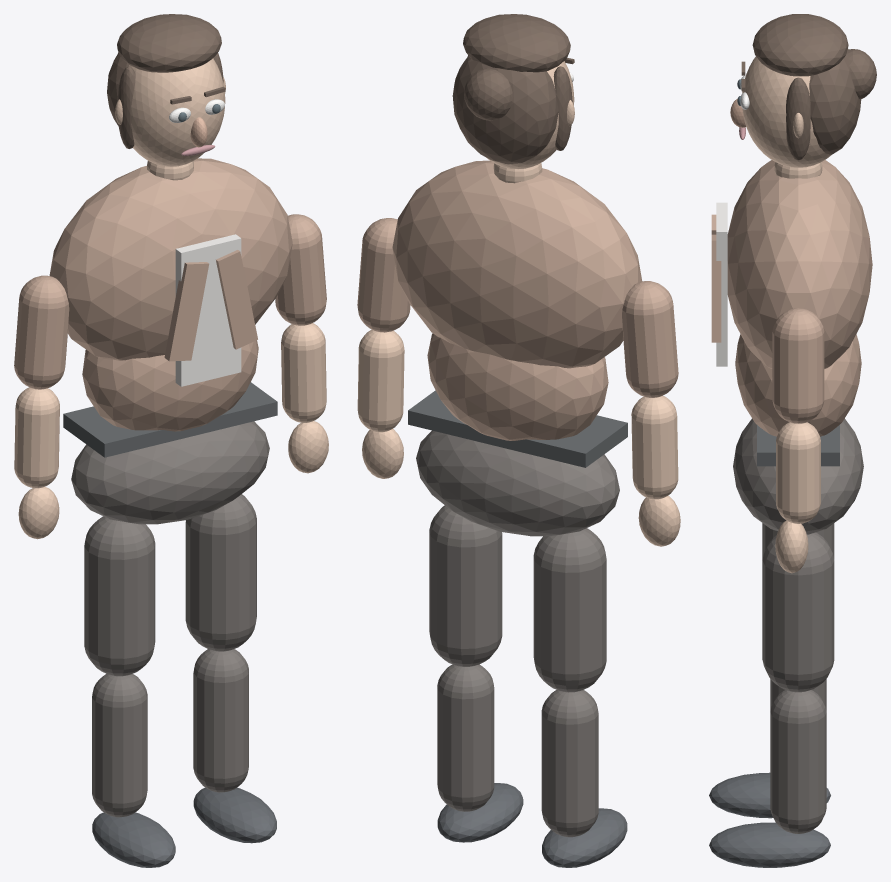
File: guest_female.glb
The picture shows the model from 3 angles, left to right: view 1: azimuth 30°, elevation 25°; view 2: azimuth 150°, elevation 25°; view 3: azimuth 270°, elevation 25°; orthographic projection. The views are drawn at different scales.
Parts seen in each view (by area): view 1: Chest, Hips, LeftUpLeg, RightUpLeg, Spine, RightLeg, LeftLeg, Head, ShirtPanel, LeftArm, HairTop, Belt (+12 smaller); view 2: Chest, Hips, Spine, LeftUpLeg, RightUpLeg, LeftLeg, RightLeg, HairBack, LeftArm, HairTop, Belt, LeftForeArm (+10 smaller); view 3: Chest, RightUpLeg, RightLeg, Hips, RightArm, Spine, HairTop, Head, RightForeArm, RightFoot, HairBack, LeftFoot (+9 smaller).
Boxes of the visible parts, x1=… form: Chest: x1=49, y1=158, x2=292, y2=360; Hips: x1=71, y1=421, x2=269, y2=524; LeftUpLeg: x1=84, y1=516, x2=155, y2=676; RightUpLeg: x1=185, y1=494, x2=256, y2=651; Spine: x1=82, y1=340, x2=258, y2=431; RightLeg: x1=193, y1=649, x2=248, y2=792; LeftLeg: x1=92, y1=674, x2=147, y2=817; Head: x1=128, y1=58, x2=225, y2=166; ShirtPanel: x1=175, y1=234, x2=241, y2=386; LeftArm: x1=14, y1=275, x2=69, y2=389; HairTop: x1=117, y1=14, x2=221, y2=72; Belt: x1=63, y1=382, x2=277, y2=457; Chest: x1=392, y1=160, x2=641, y2=368; Hips: x1=416, y1=430, x2=619, y2=536; Spine: x1=427, y1=333, x2=608, y2=440; LeftUpLeg: x1=533, y1=528, x2=606, y2=692; RightUpLeg: x1=429, y1=505, x2=502, y2=666; LeftLeg: x1=541, y1=690, x2=598, y2=837; RightLeg: x1=437, y1=664, x2=494, y2=811; HairBack: x1=452, y1=56, x2=558, y2=164; LeftArm: x1=622, y1=281, x2=678, y2=397; HairTop: x1=463, y1=14, x2=570, y2=72; Belt: x1=408, y1=390, x2=627, y2=467; LeftForeArm: x1=631, y1=395, x2=678, y2=499; Chest: x1=727, y1=160, x2=872, y2=368; RightUpLeg: x1=762, y1=532, x2=834, y2=692; RightLeg: x1=770, y1=690, x2=826, y2=833; Hips: x1=733, y1=418, x2=863, y2=534; RightArm: x1=772, y1=308, x2=824, y2=423; Spine: x1=735, y1=334, x2=861, y2=436; HairTop: x1=752, y1=14, x2=848, y2=76; Head: x1=742, y1=56, x2=831, y2=167; RightForeArm: x1=776, y1=422, x2=820, y2=523; RightFoot: x1=709, y1=822, x2=830, y2=867; HairBack: x1=809, y1=49, x2=861, y2=154; LeftFoot: x1=709, y1=772, x2=830, y2=818.
Size of the model in its own units: 0.8163 by 2.06 by 0.385.
